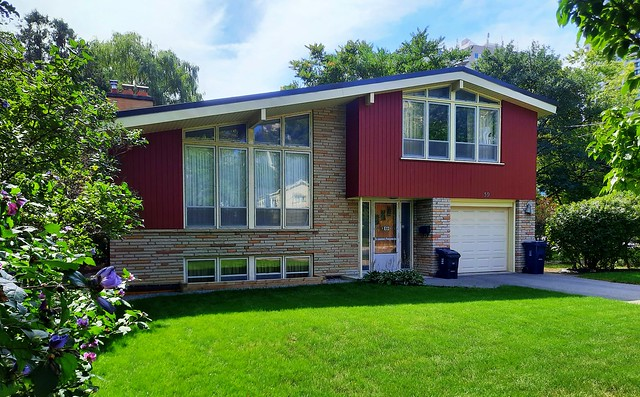medium: (51, 63, 558, 289)
